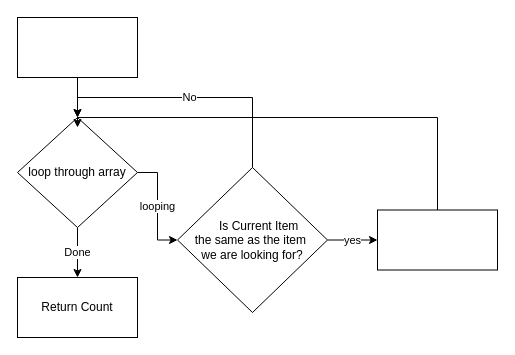
The diagram is 515 pixels wide and 355 high, and some of its shapes have lost their labels. The shapes that lost their labels are listed below. From the top down, each one's centre as x and y in pixels, then its label:
the point at 77,47: set count to 0
the point at 437,239: Increase Count by 1
